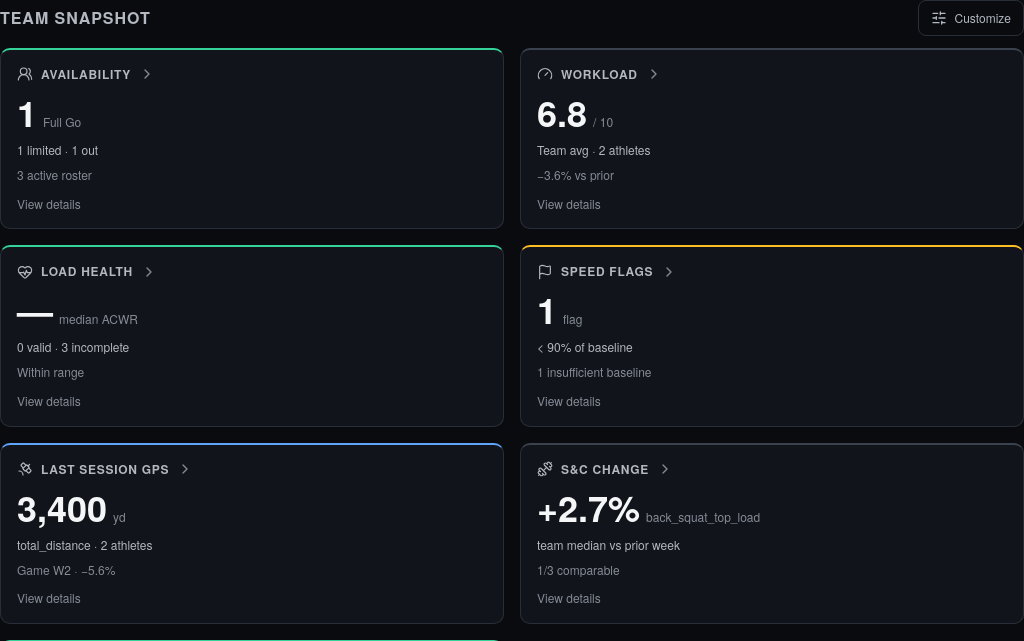
Test: S&C Change drawer refuses zero baselines with a stated reason
Expected: the heading "Team Snapshot" is shown, [0,7,151,29]
Click the button "S&C Change" at (605, 469), box [520,443,1023,624]
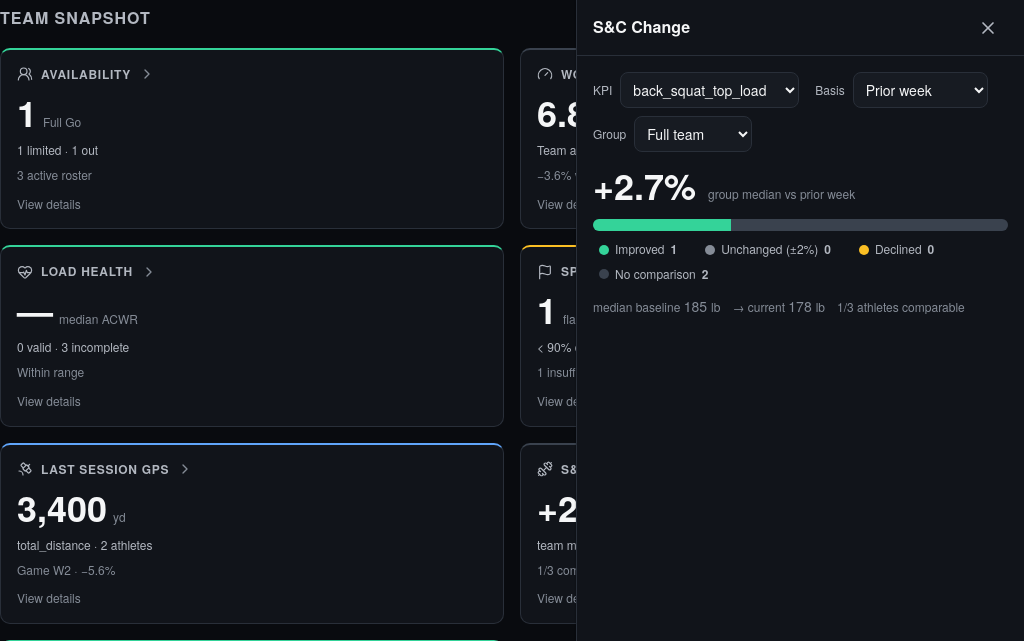
Select "power_clean_top_load" in the dropdown labelled "KPI" at (710, 90), box [620,72,799,108]
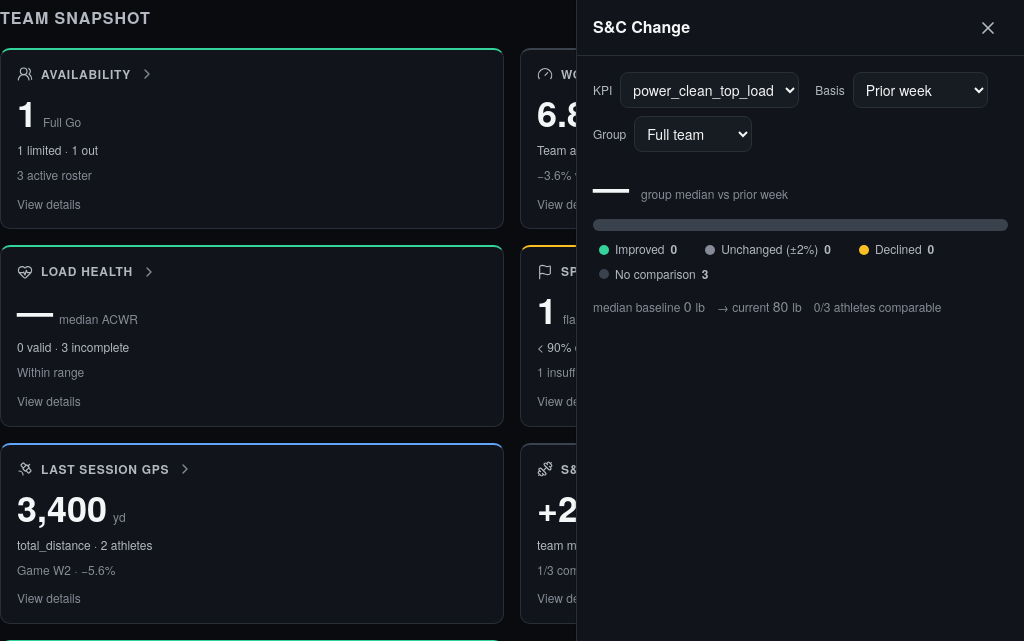
Select "Prior session" in the dropdown labelled "Basis" at (920, 90), box [853,72,988,108]
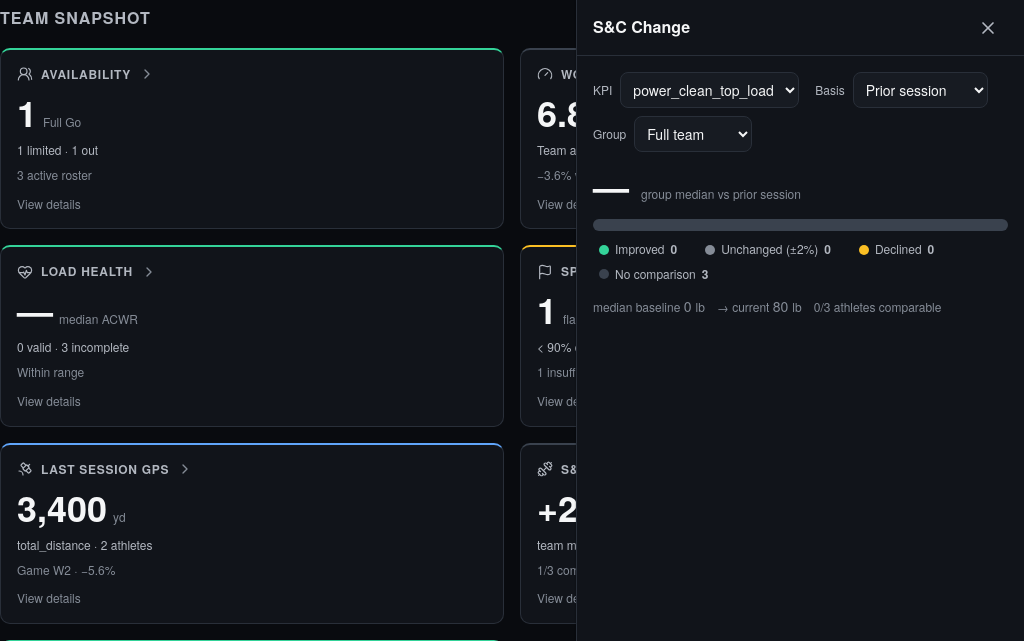
Click the button "No comparison 3" at (654, 274), box [593,264,714,285]
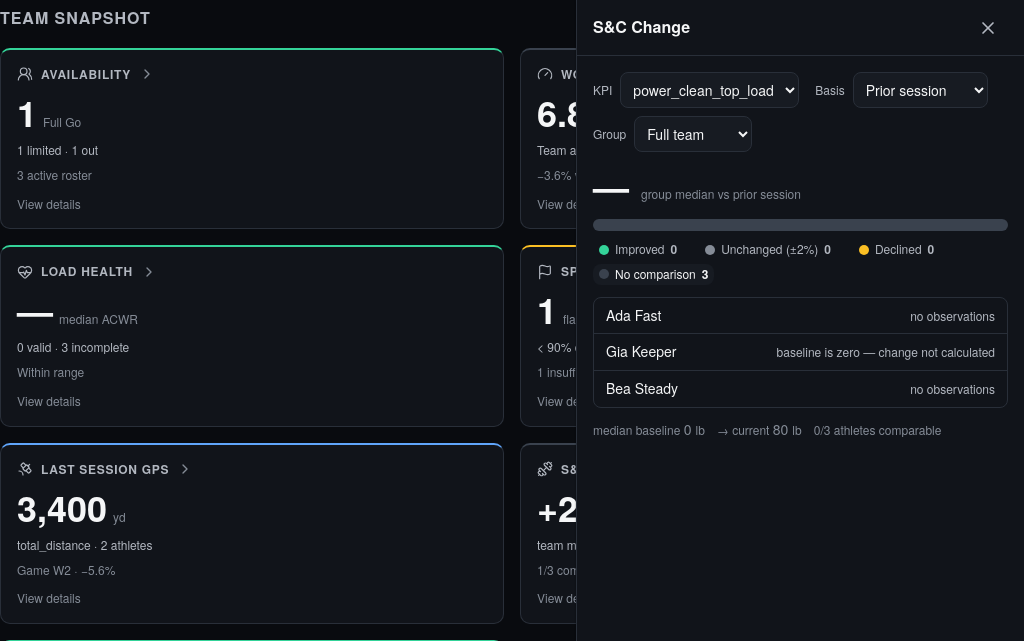
Result: the text "baseline is zero — change not calculated" is shown at [777,344,995,361]
